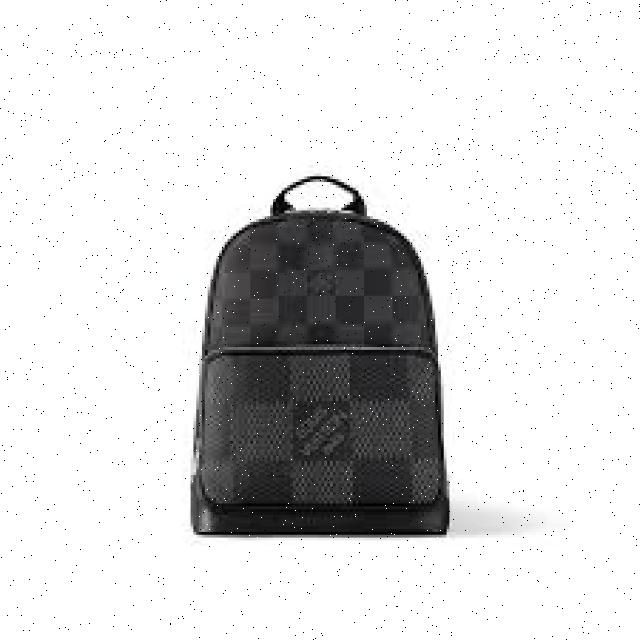backpack: (188, 173, 449, 534)
